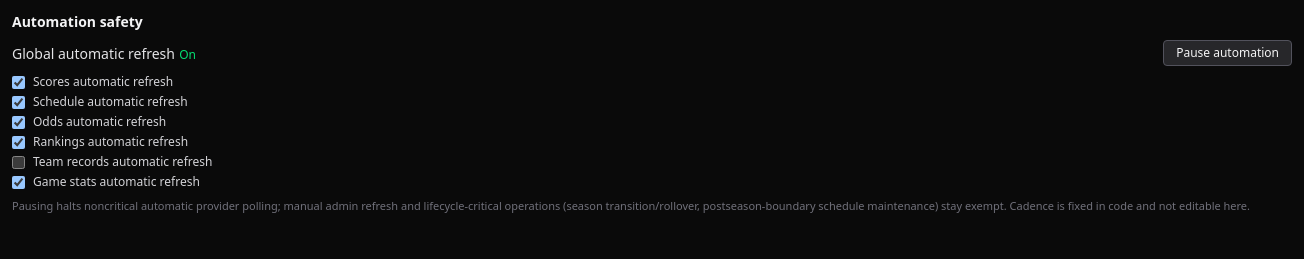
Scenario: a failed mutation shows a stable status-based alert and leaves the setting unchanged
Click the button "Pause automation".
click(1228, 53)  # box [1163,40,1292,66]
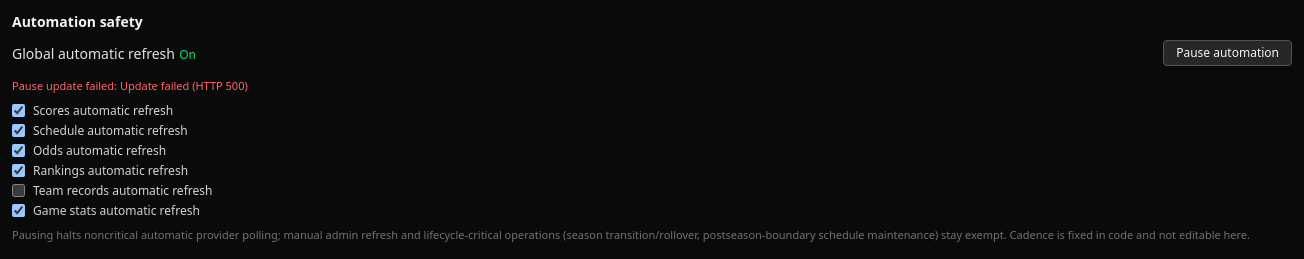
Expected: the text "On" is shown, [179,46,196,63]
Result: the message shows "Update failed (HTTP 500)" at [120,78,248,93]
